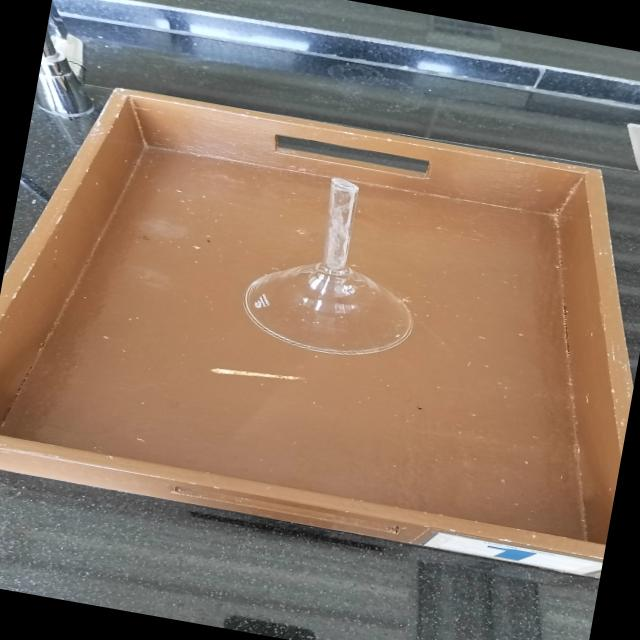funnel: (226, 159, 440, 370)
